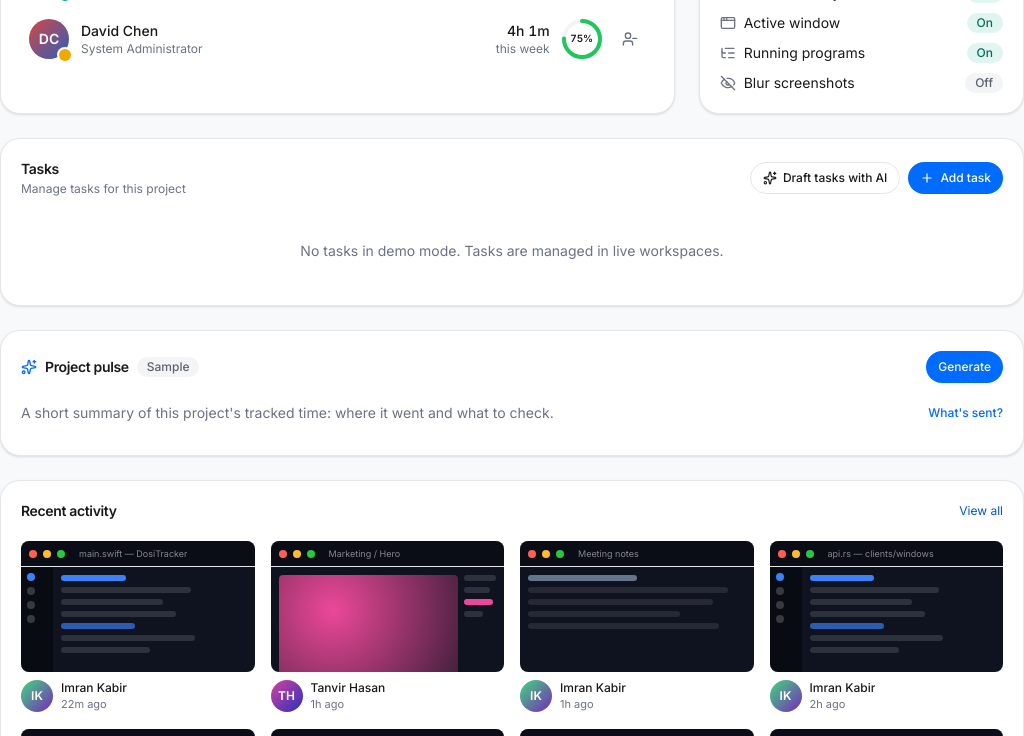
Project pulse and task drafts (project page) › offers the owner the project's pulse before Recent activity, from the demo data
(page scrolled)
Click the button "Generate": coordinates (965, 367) [926,351,1003,383]
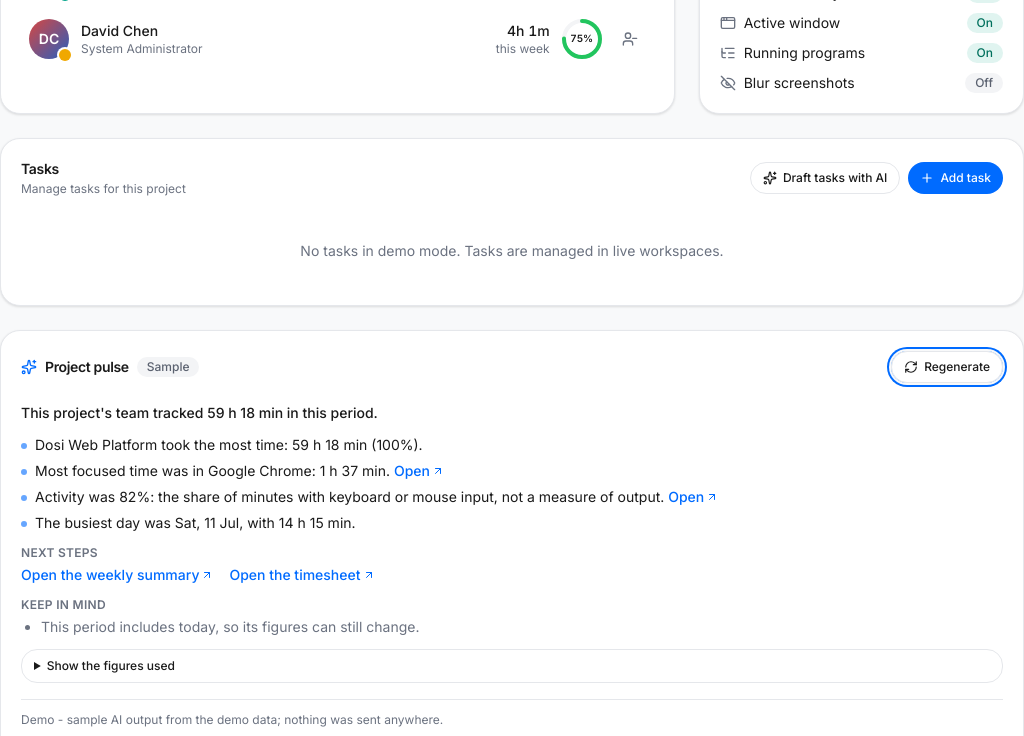
Now the text "Demo - sample AI output" is shown, box [21,712,443,727]
